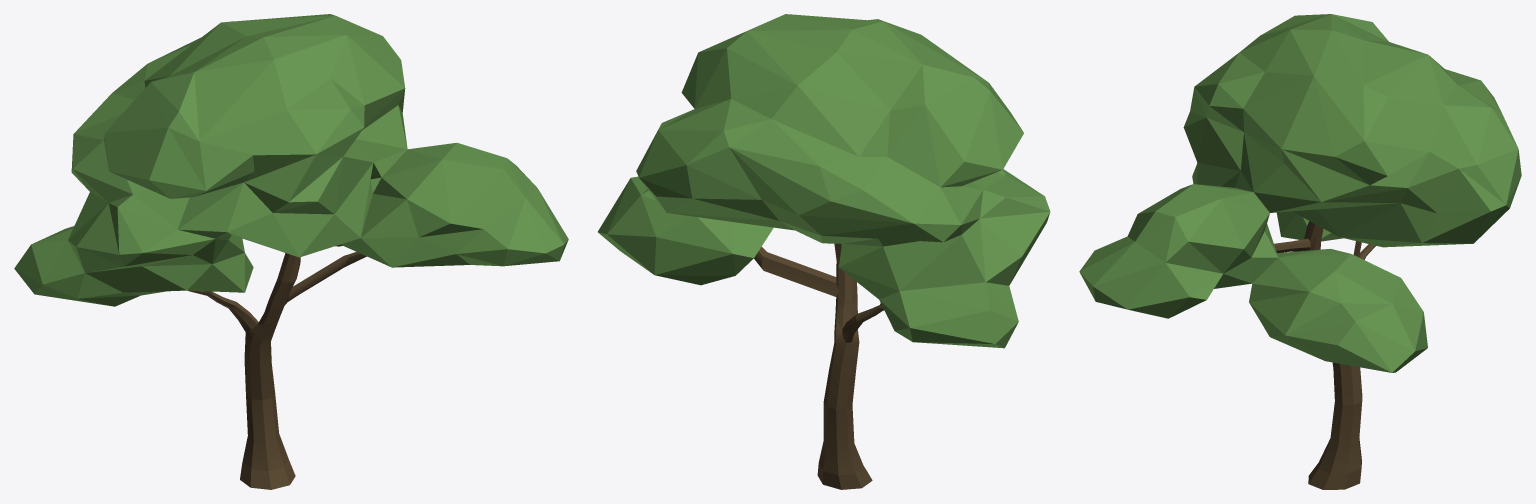
File: Ntree1.fbx
3 renders of one model, left to right at view 1: azimuth 30°, elevation 25°; view 2: azimuth 150°, elevation 25°; view 3: azimuth 270°, elevation 25°, orthographic.
Visible parts, largest first — view 1: polySurface808; view 2: polySurface808; view 3: polySurface808.
Boxes of the visible parts, box(x1,y1,x2,y2) form: polySurface808: box(14, 14, 568, 489); polySurface808: box(598, 14, 1050, 489); polySurface808: box(1079, 14, 1521, 489).
Bounding box in the file's own units: 3.89 × 3.96 × 3.55.
